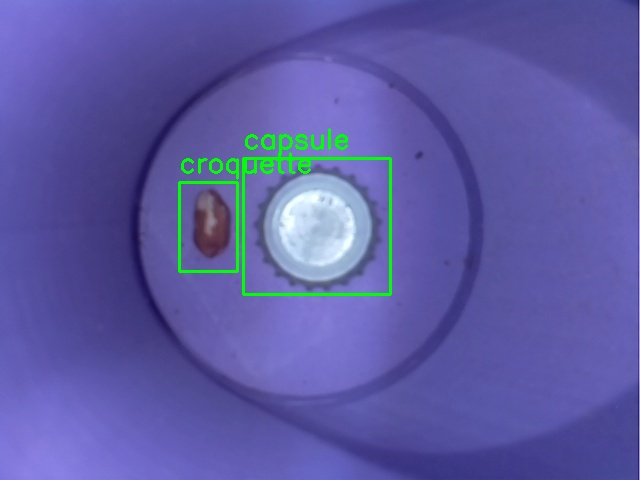capsule: (243, 158, 390, 294)
croquette: (179, 182, 237, 271)
